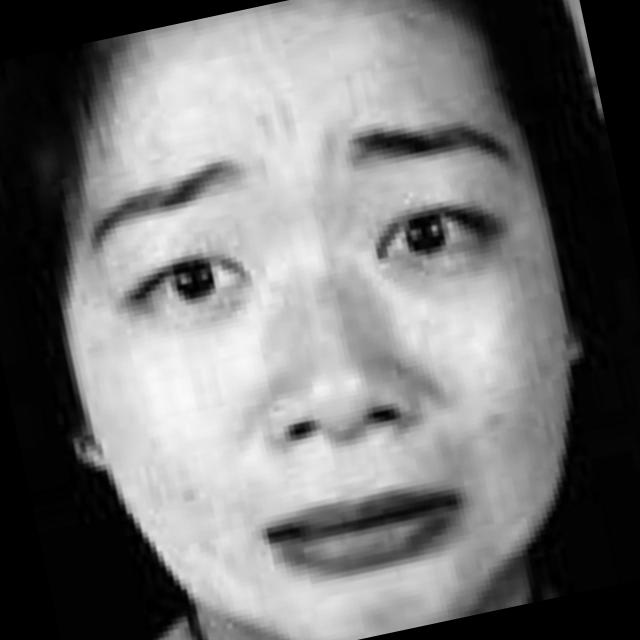fear: (45, 28, 611, 640)
